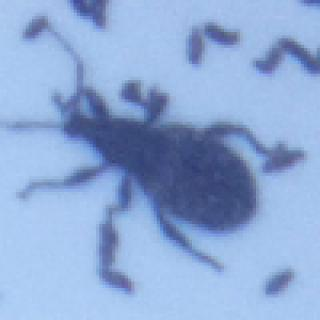bvw: (5, 26, 268, 292)
